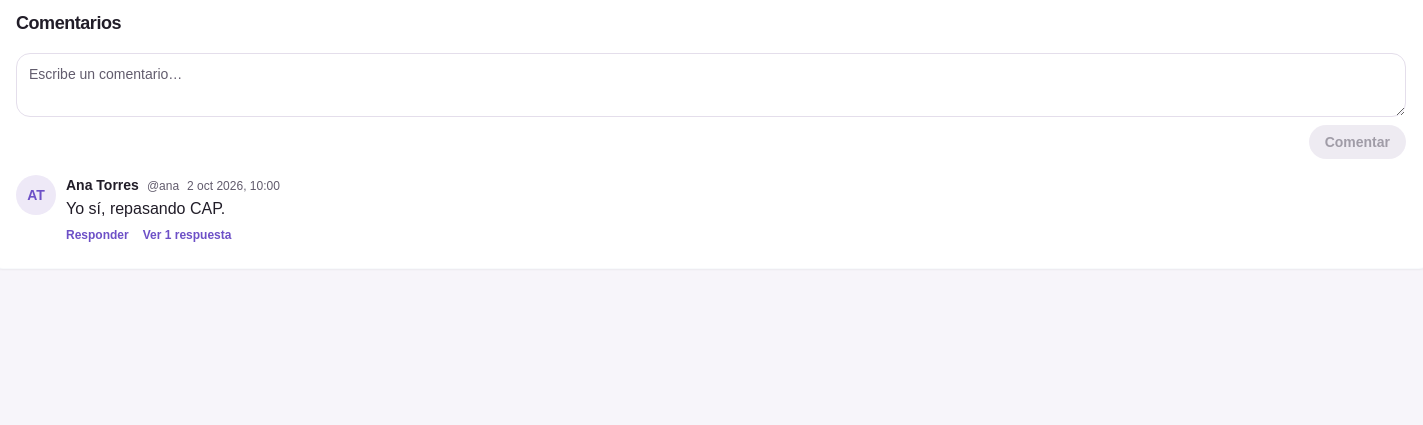
Scenario: replies to a comment and unfolds its thread
The image size is (1423, 425).
Click the button "Responder": (97, 235) top-left (66, 226), bottom-right (129, 244)
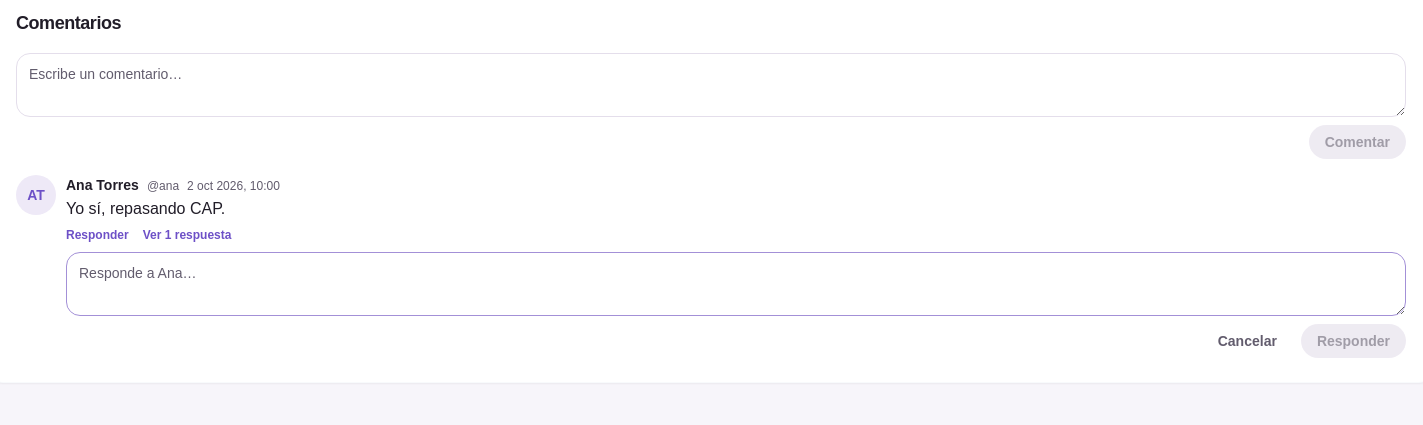
In the text box named "Respuesta a Ana Torres": (736, 284) top-left (66, 252), bottom-right (1406, 316), type "Respuesta nueva"
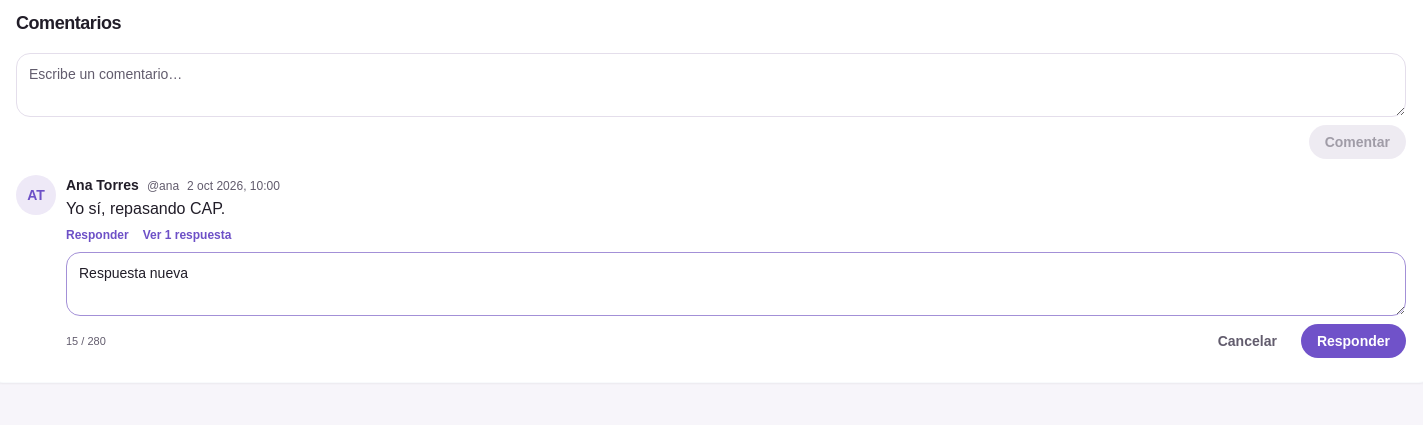
Submit the form named "Respuesta a Ana Torres", box top-left (66, 252), bottom-right (1406, 358)
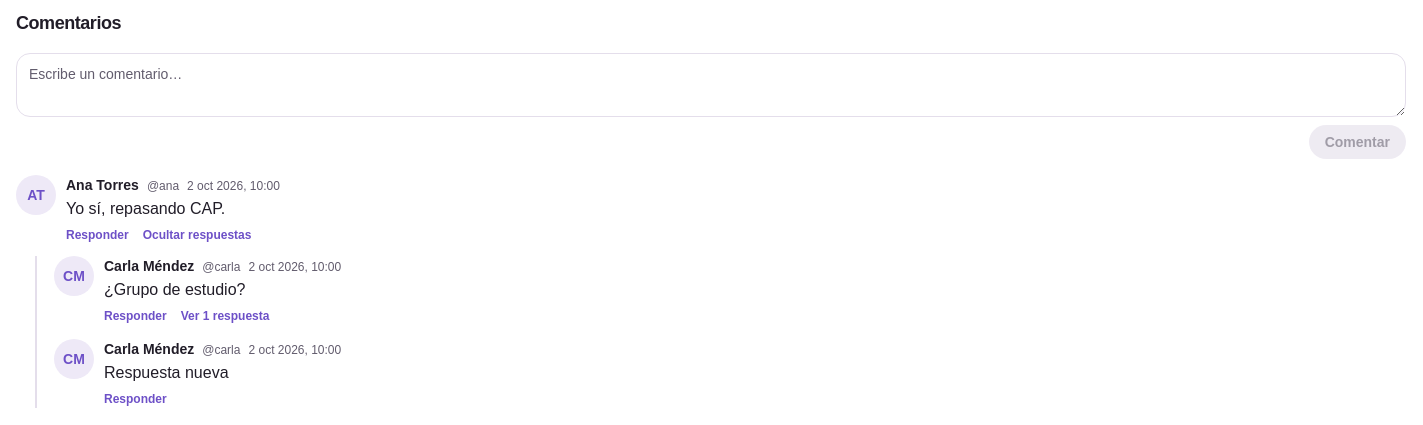
Expected: the field labelled "Respuesta a Ana Torres" is not shown
Now the text "Respuesta nueva" is shown, box top-left (104, 364), bottom-right (228, 381)
Now the text "¿Grupo de estudio?" is shown, box top-left (104, 281), bottom-right (245, 298)
